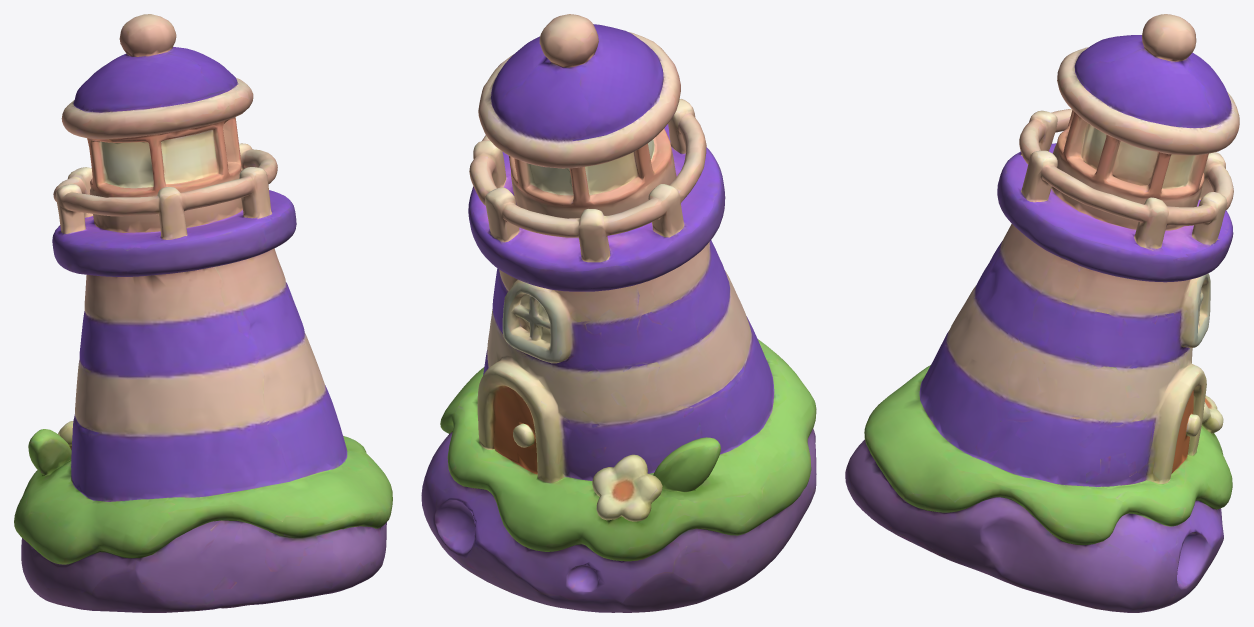
Rendered from item_lighthouse.glb.
3 views of the same model, side by side, from view 1: azimuth 30°, elevation 25°; view 2: azimuth 150°, elevation 25°; view 3: azimuth 270°, elevation 25° (orthographic). The views are drawn at different scales.
Visible parts, largest first — view 1: geometry_0; view 2: geometry_0; view 3: geometry_0.
Boxes of the visible parts, box(x1,y1,x2,y2) form: geometry_0: box(14, 14, 392, 612); geometry_0: box(421, 14, 816, 612); geometry_0: box(845, 14, 1239, 612).
Bounding box in the file's own units: 0.5559 × 0.9004 × 0.5941.
1 material, 1 textured.
